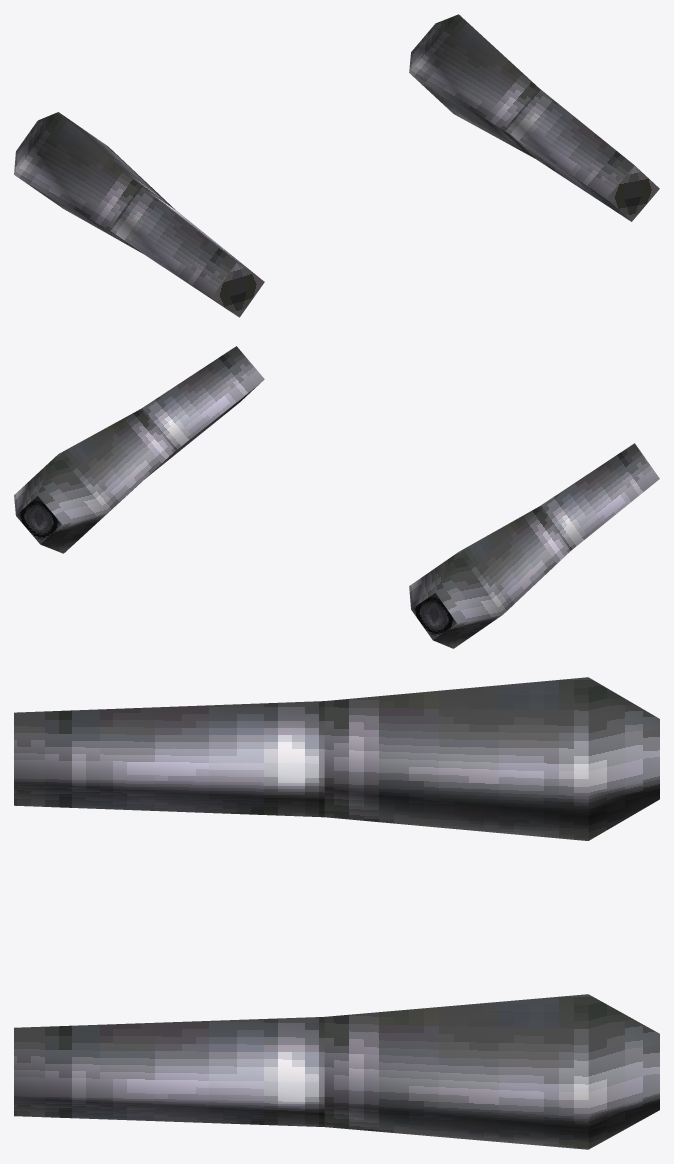
File: awing_booster_s02_l3.fbx
3 renders of one model, top to bottom at view 1: azimuth 30°, elevation 25°; view 2: azimuth 150°, elevation 25°; view 3: azimuth 270°, elevation 25°, orthographic. The views are drawn at different scales.
Parts seen in each view (by area): view 1: mesh_node; view 2: mesh_node; view 3: mesh_node.
Boxes of the visible parts, box(x1,y1,x2,y2) form: mesh_node: box(14, 14, 659, 317); mesh_node: box(14, 346, 659, 648); mesh_node: box(14, 677, 659, 1149).
Bounding box in the file's own units: 3.73 × 0.7171 × 2.63.
Materials: 1 (1 with a texture image).
